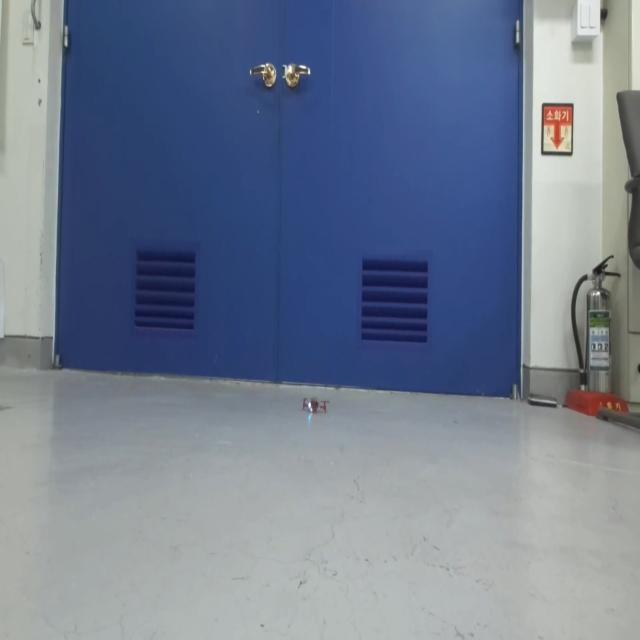crazyflie: (300, 394, 330, 418)
